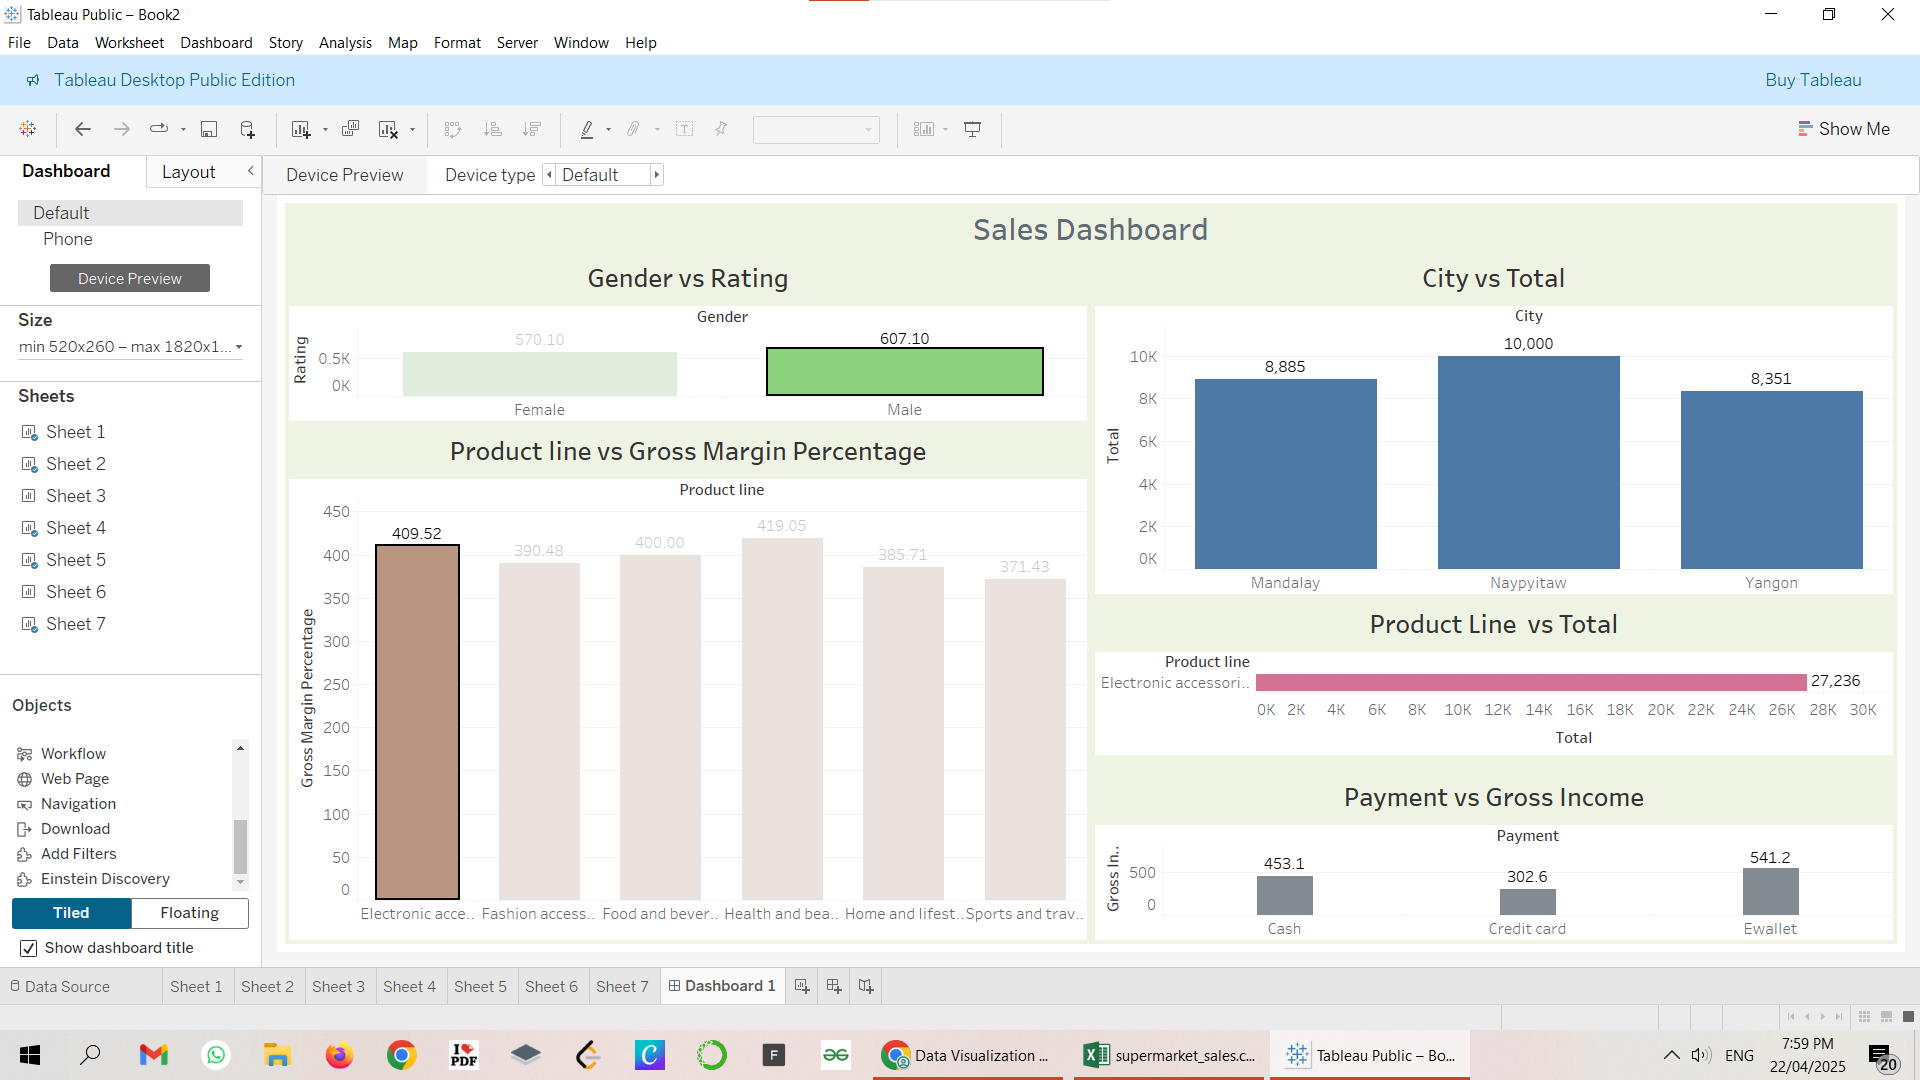

The page's visual inventory and layout, read from the dashboard file:
{"tool":"tableau","page":{"name":"Dashboard 1","canvas":[1000,1000],"units":"permille","ordinal":0},"visuals":[{"type":"title","box":[4.9,10.6,990.2,64.7]},{"type":"worksheet","title":"Sheet 5","mark":"Automatic","rows":["Rating"],"cols":["Gender"],"box":[4.9,75.3,495,228.3]},{"type":"worksheet","title":"Sheet 2","mark":"Automatic","rows":["Total"],"cols":["City"],"box":[499.9,75.3,495.2,456.9]},{"type":"worksheet","title":"Sheet 7","mark":"Automatic","rows":["gross margin percentage"],"cols":["Product line"],"box":[4.9,303.7,495,685.8]},{"type":"worksheet","title":"Sheet 1","mark":"Automatic","rows":["Product line"],"cols":["Total"],"box":[499.9,532.2,495.2,228.6]},{"type":"worksheet","title":"Sheet 4","mark":"Automatic","rows":["gross income"],"cols":["Payment"],"box":[499.9,760.7,495.2,228.7]}]}

Visuals, with their boxes on the dashboard's canvas, which has no fixed pixel size, in thousandths of its width and height (x1, y1, x2, y2). These are canvas units, not pixel positions in the 1920x1080 screenshot, which may show the page scaled, cropped or inside an application window:
title: [5, 11, 995, 75]
"Sheet 5" worksheet: [5, 75, 500, 304]
"Sheet 2" worksheet: [500, 75, 995, 532]
"Sheet 7" worksheet: [5, 304, 500, 990]
"Sheet 1" worksheet: [500, 532, 995, 761]
"Sheet 4" worksheet: [500, 761, 995, 989]
